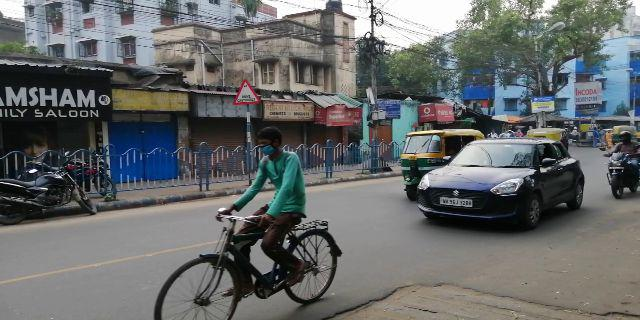Autorickshaw: (397, 130, 483, 196)
Car: (417, 138, 587, 225)
Cycle: (153, 127, 345, 320)
Motorbike: (1, 161, 100, 225), (603, 128, 638, 200)
